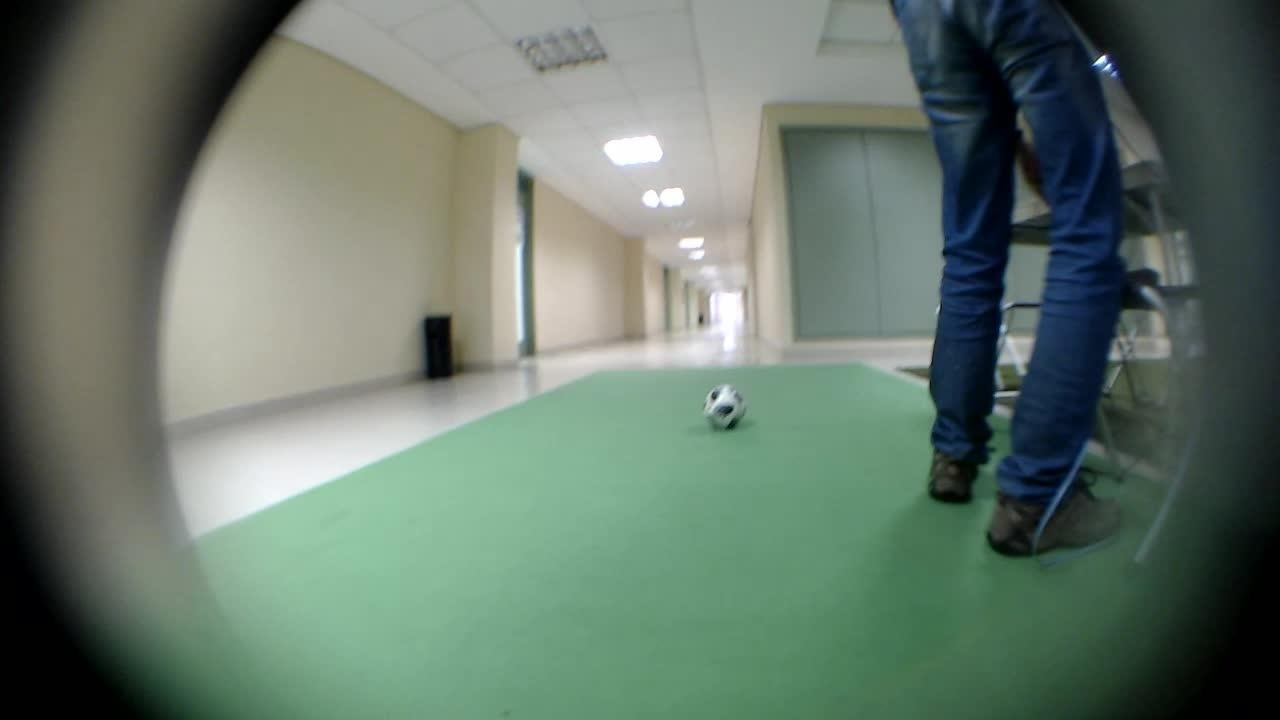ball: (697, 375, 749, 430)
